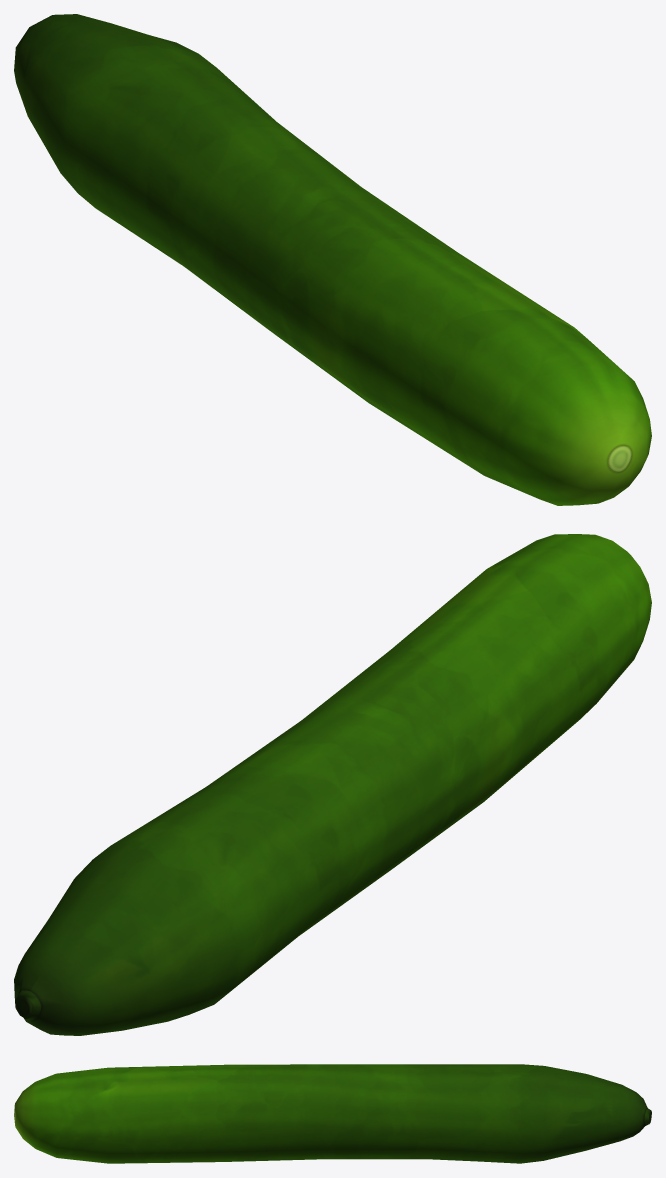
The model's file is Cucumber.fbx.
3 renders of one model, top to bottom at view 1: azimuth 30°, elevation 25°; view 2: azimuth 150°, elevation 25°; view 3: azimuth 270°, elevation 25°, orthographic. The views are drawn at different scales.
Parts seen in each view (by area): view 1: Cucumber; view 2: Cucumber; view 3: Cucumber.
Boxes of the visible parts, bbox=[...] form: Cucumber: bbox=[14, 14, 651, 505]; Cucumber: bbox=[14, 534, 651, 1035]; Cucumber: bbox=[14, 1064, 651, 1163].
Bounding box in the file's own units: 1.53 × 1.43 × 9.17.
